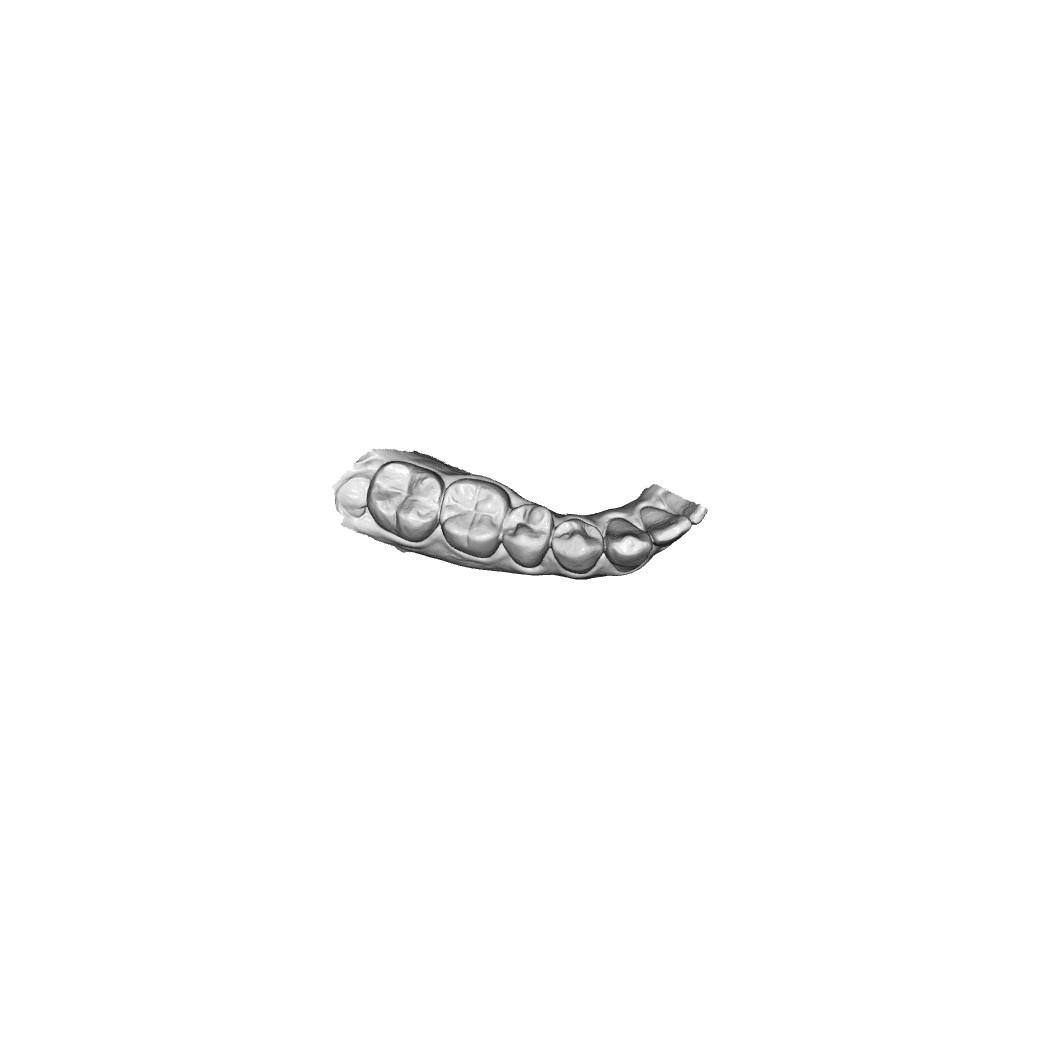canine: (604, 513, 654, 572)
incisor: (641, 504, 691, 549)
molar: (369, 459, 442, 544), (441, 476, 509, 558)
premolar: (504, 505, 552, 568), (554, 519, 605, 574)
